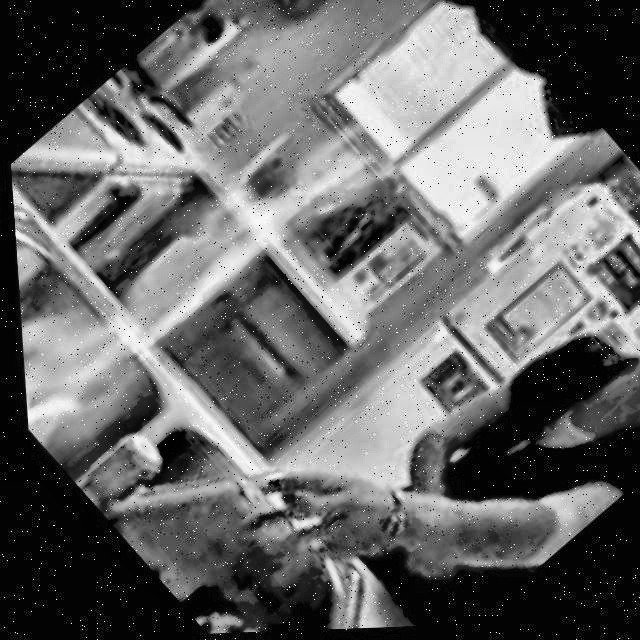Fire: (4, 56, 395, 468)
